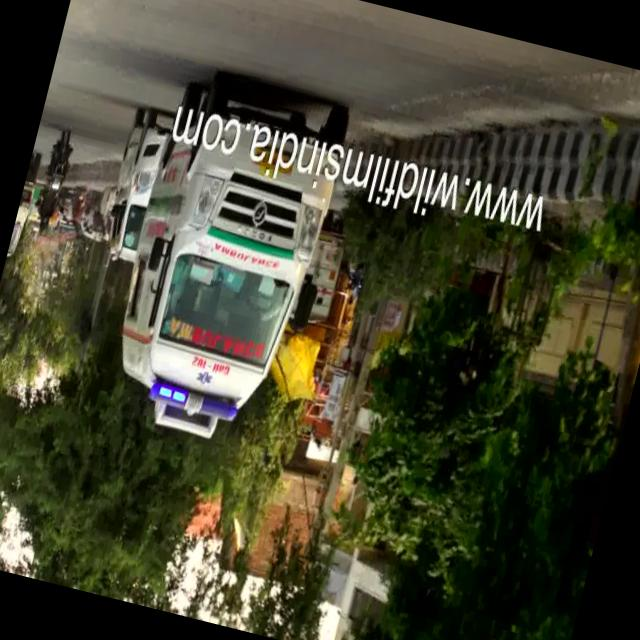ambulance: (98, 146, 340, 464)
